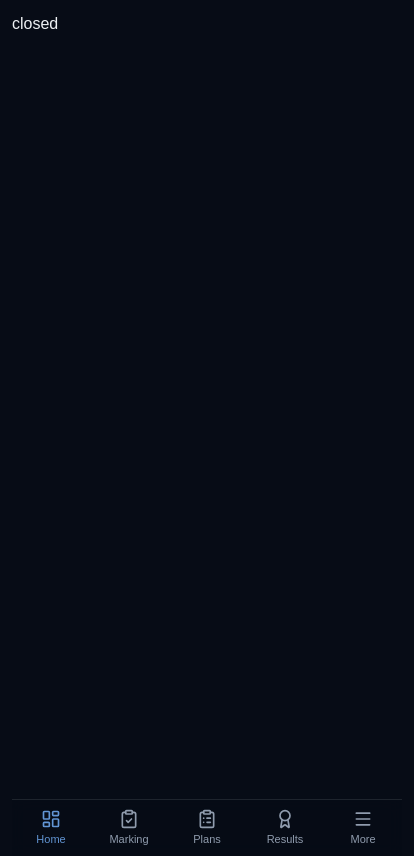
mobile tab bar › More opens the full menu
Click the button "More" at [363, 828], box [324,800,402,855]
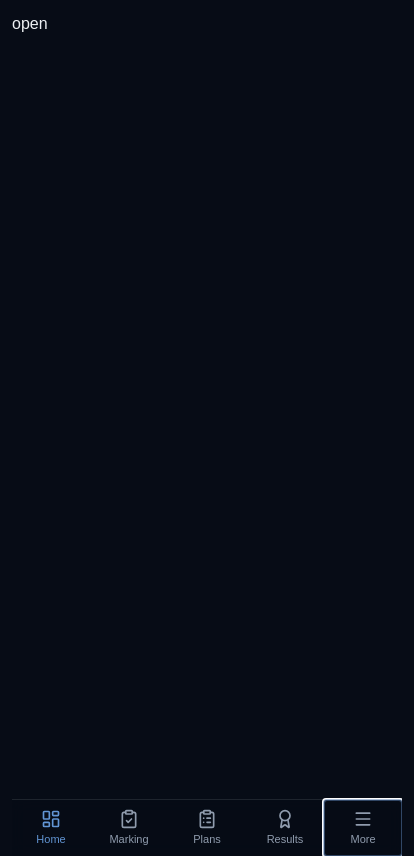
Now the text named "sidebar" reads "open", box [12,15,48,32]
